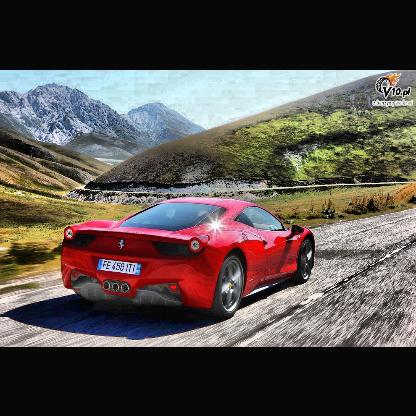Ferrari 458 Italia Coupe 2012: (60, 195, 319, 321)
